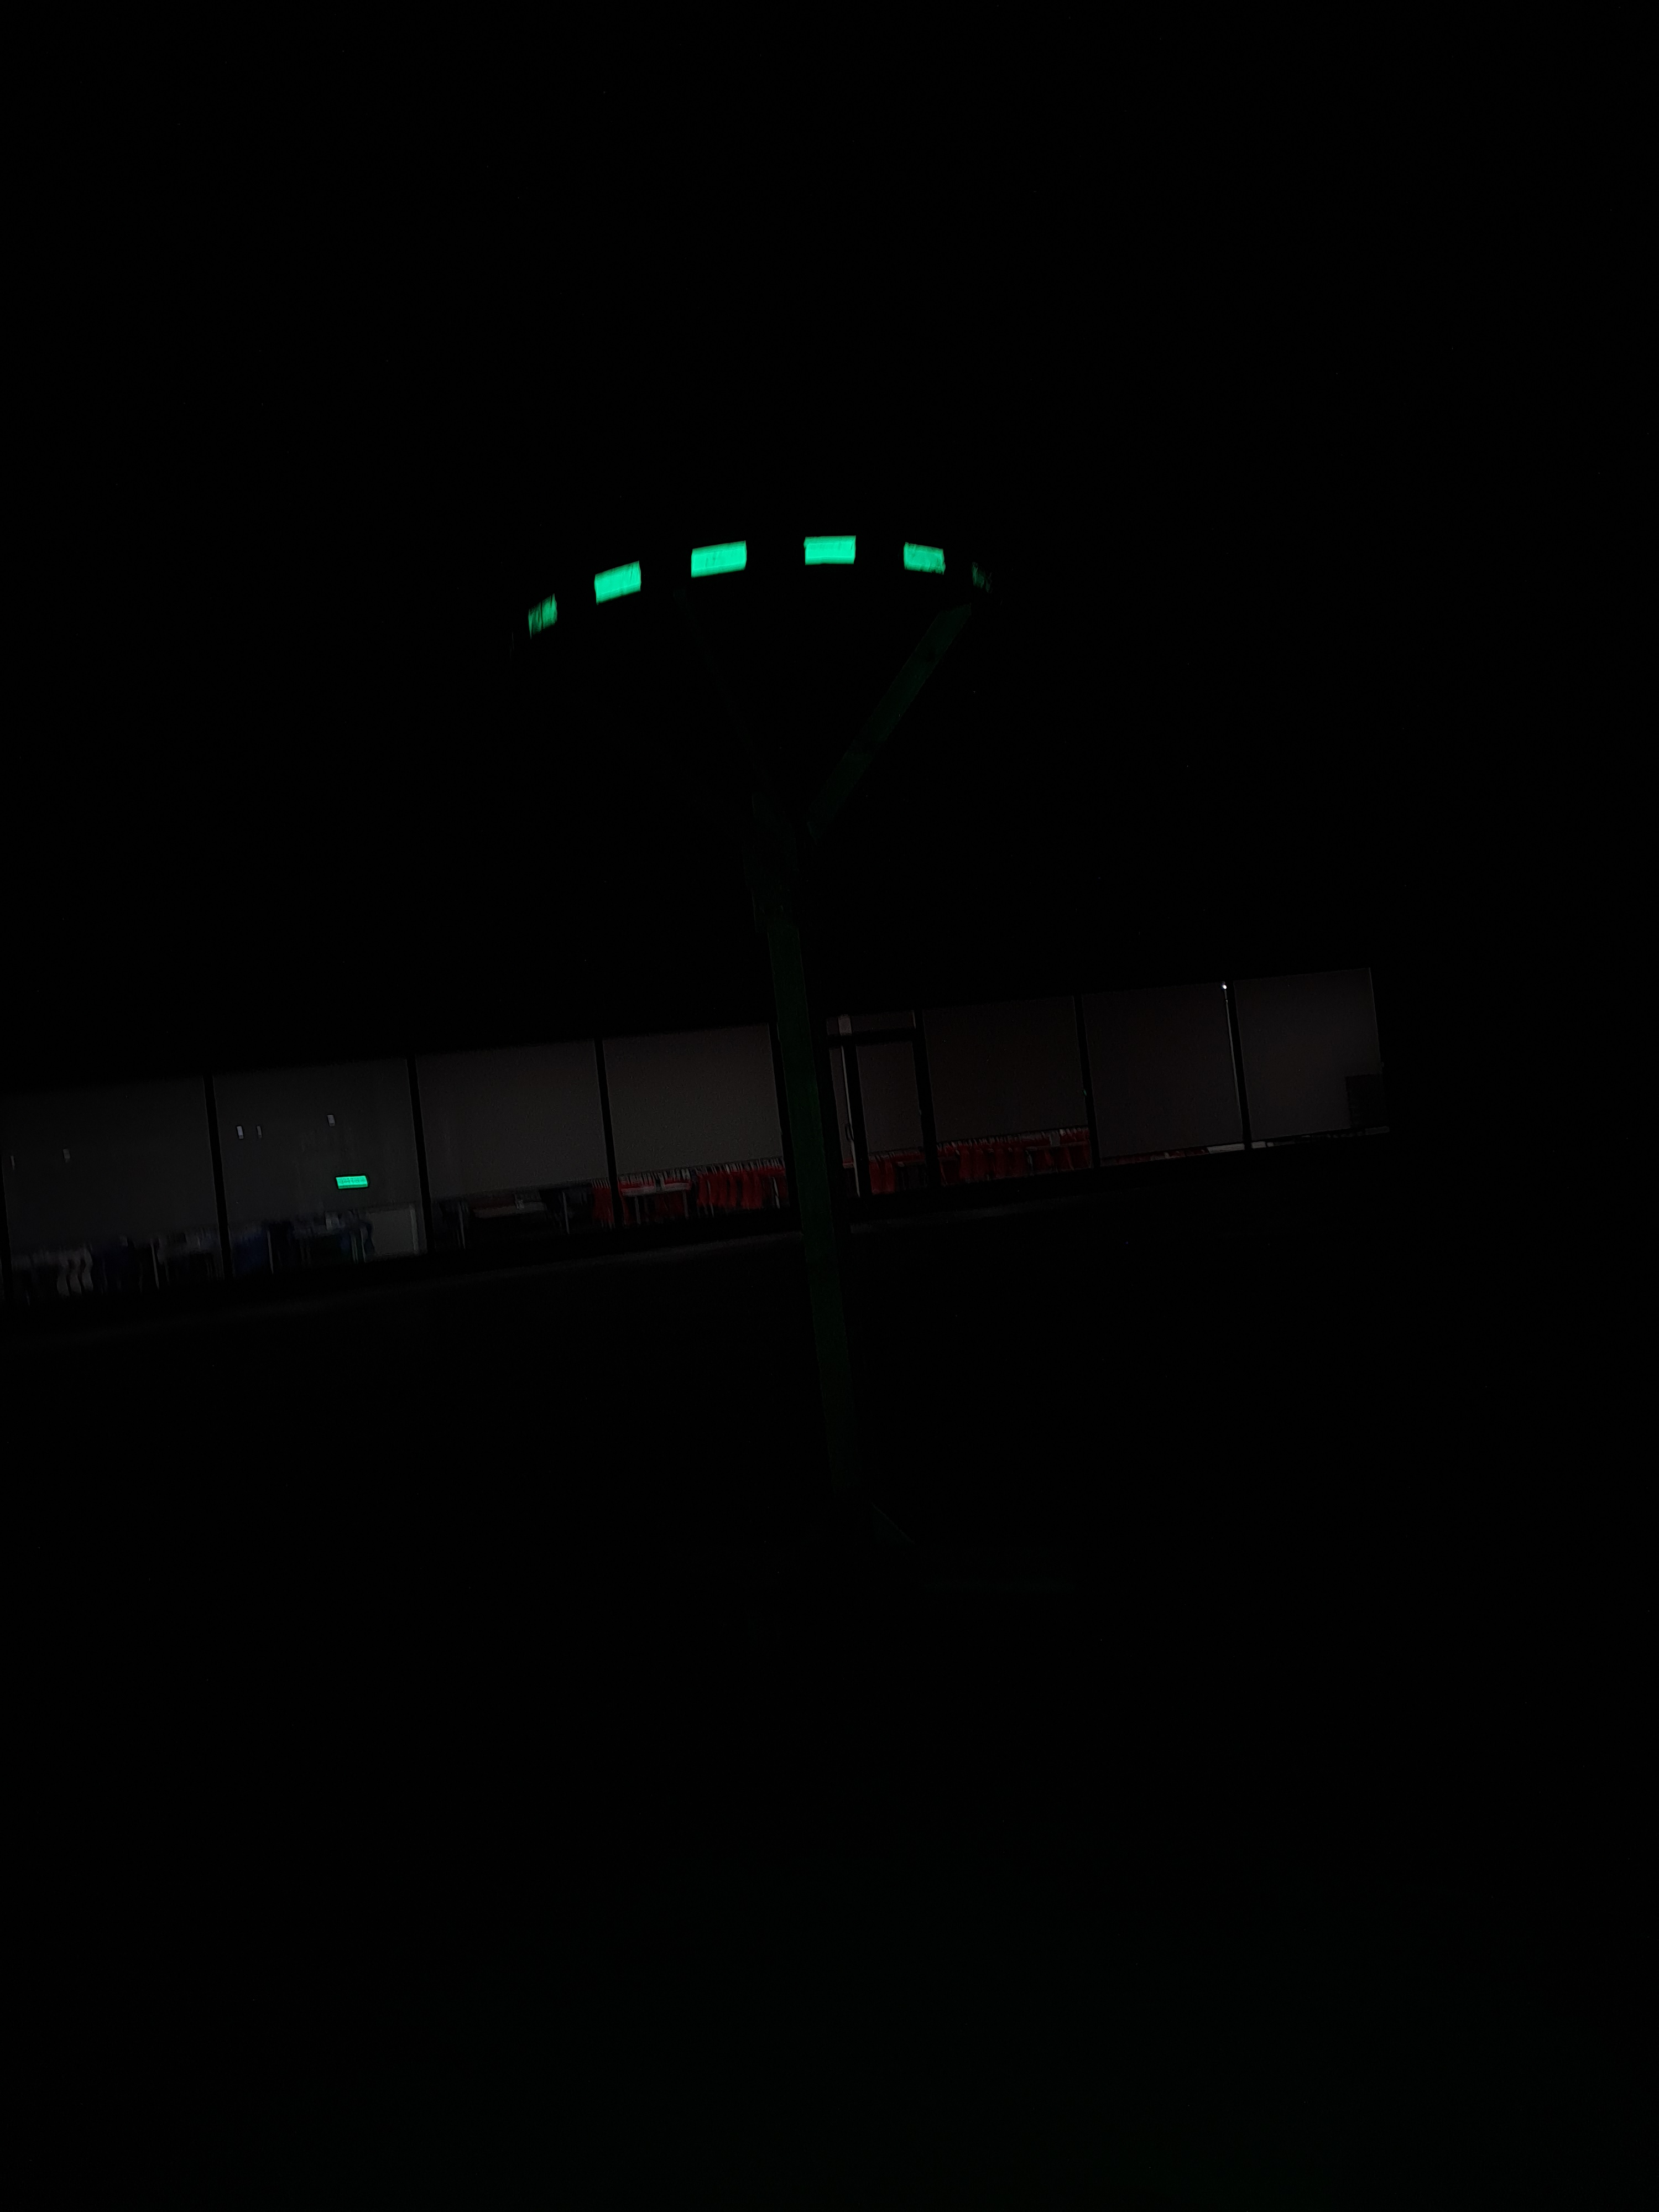hoop: (519, 528, 957, 648)
